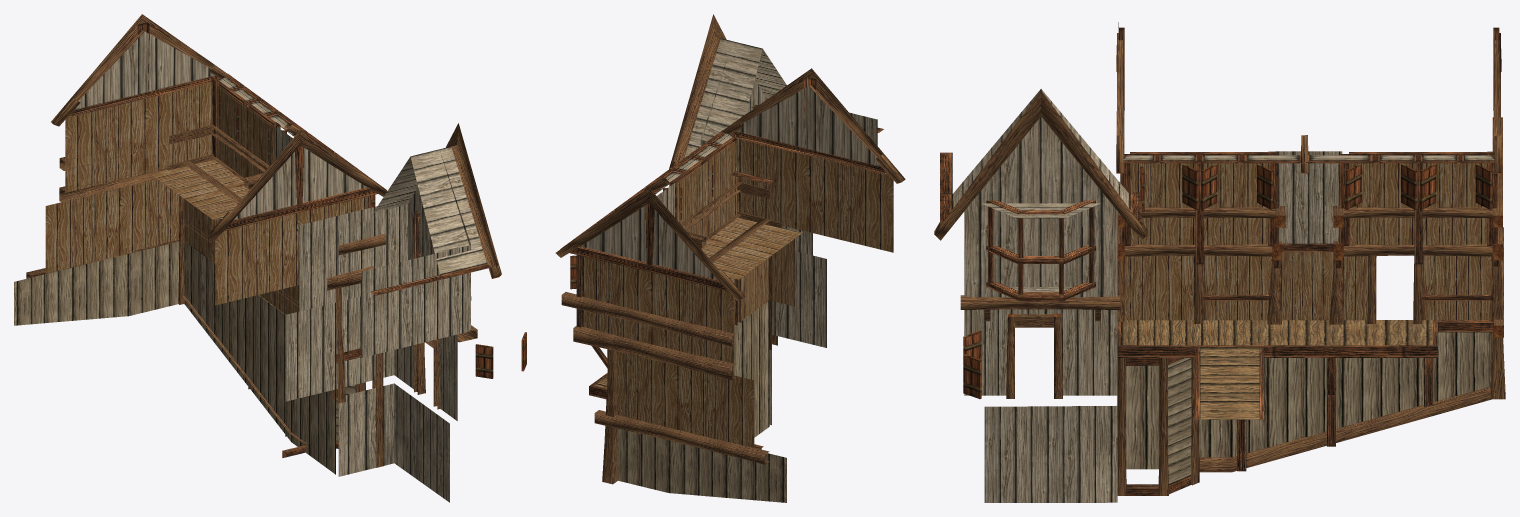
Rendered from LAKETOWN_EXTERIOR_PS_LT_BACK_BLOCK88__GX.fbx.
The picture shows the model from 3 angles, left to right: view 1: azimuth 30°, elevation 25°; view 2: azimuth 150°, elevation 25°; view 3: azimuth 270°, elevation 25°; orthographic projection. The views are drawn at different scales.
Visible parts, largest first — view 1: LAKETOWN_EXTERIOR_PS_LT_BACK_BLOCK88__GX; view 2: LAKETOWN_EXTERIOR_PS_LT_BACK_BLOCK88__GX; view 3: LAKETOWN_EXTERIOR_PS_LT_BACK_BLOCK88__GX.
Boxes of the visible parts, box(x1,y1,x2,y2) form: LAKETOWN_EXTERIOR_PS_LT_BACK_BLOCK88__GX: box(14, 14, 526, 502); LAKETOWN_EXTERIOR_PS_LT_BACK_BLOCK88__GX: box(555, 14, 905, 502); LAKETOWN_EXTERIOR_PS_LT_BACK_BLOCK88__GX: box(934, 22, 1505, 502).
Bounding box in the file's own units: 124159 × 140458 × 167918.
Materials: 13 (13 with a texture image).
